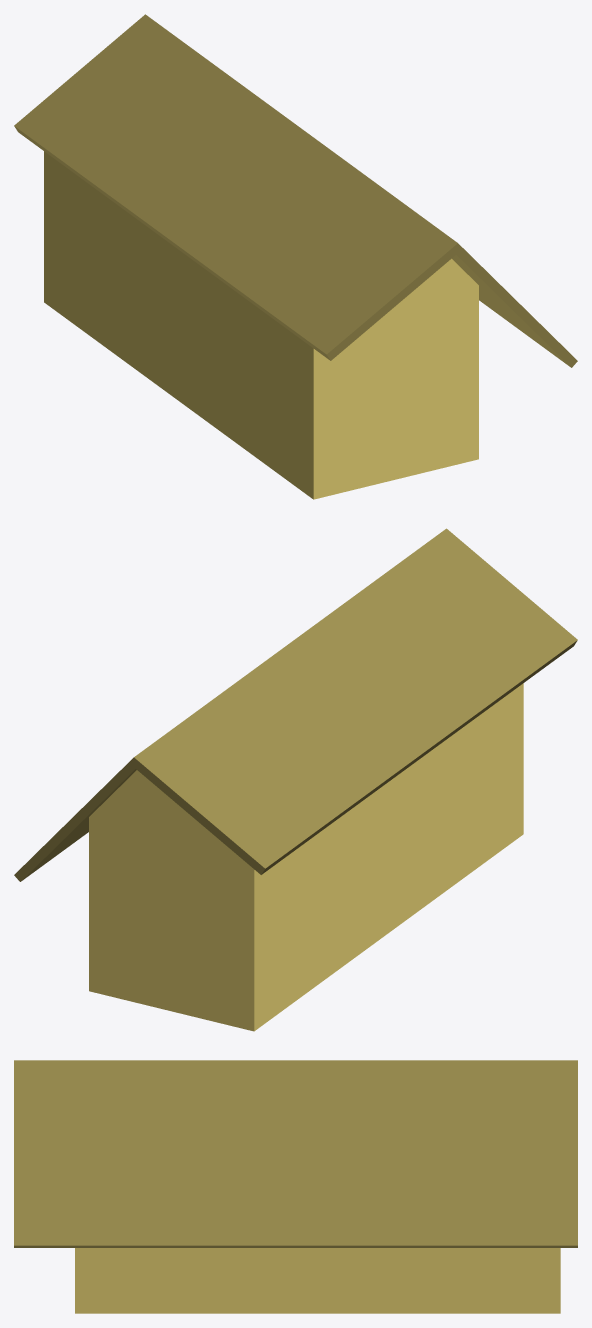
File: result.glb
The picture shows the model from 3 angles, top to bottom: view 1: azimuth 30°, elevation 25°; view 2: azimuth 150°, elevation 25°; view 3: azimuth 270°, elevation 25°; orthographic projection. The views are drawn at different scales.
Parts seen in each view (by area): view 1: 074d808e-ee56-4f41-81bb-0d107e7dde72__undefined (×2), 9633b40a-8c06-4a59-bc97-4d10bac99511__undefined; view 2: 9633b40a-8c06-4a59-bc97-4d10bac99511__undefined, 074d808e-ee56-4f41-81bb-0d107e7dde72__undefined (×2); view 3: 074d808e-ee56-4f41-81bb-0d107e7dde72__undefined, 9633b40a-8c06-4a59-bc97-4d10bac99511__undefined.
Boxes of the visible parts, bbox=[...] form: 074d808e-ee56-4f41-81bb-0d107e7dde72__undefined (×2): bbox=[14, 14, 577, 367]; 9633b40a-8c06-4a59-bc97-4d10bac99511__undefined: bbox=[44, 151, 478, 499]; 9633b40a-8c06-4a59-bc97-4d10bac99511__undefined: bbox=[89, 683, 523, 1031]; 074d808e-ee56-4f41-81bb-0d107e7dde72__undefined (×2): bbox=[14, 528, 577, 881]; 074d808e-ee56-4f41-81bb-0d107e7dde72__undefined: bbox=[14, 1060, 577, 1247]; 9633b40a-8c06-4a59-bc97-4d10bac99511__undefined: bbox=[75, 1248, 560, 1313].
Bounding box in the file's own units: 762 × 736 × 1641.
